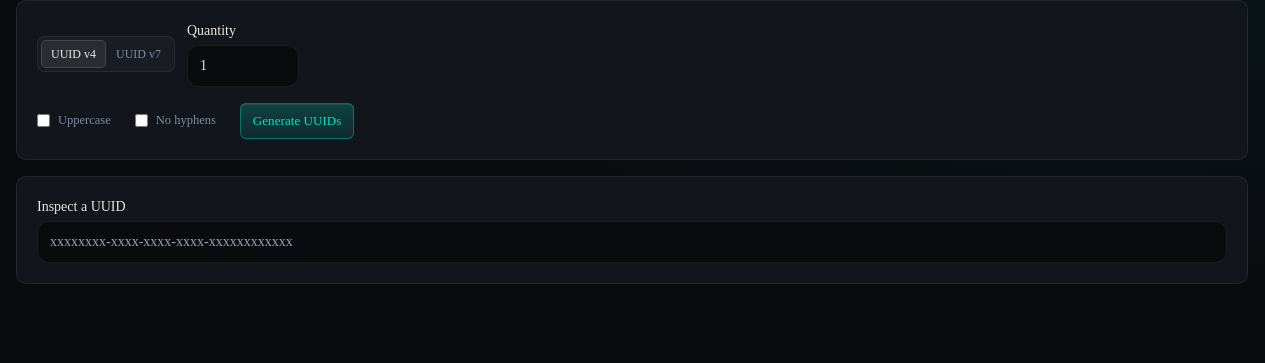
Scenario: UuidGeneratorClient › rejects quantities outside 1 to 100
Replace the text in the number field labelled "Quantity" with "101" at (243, 66), box [187,45,299,87]
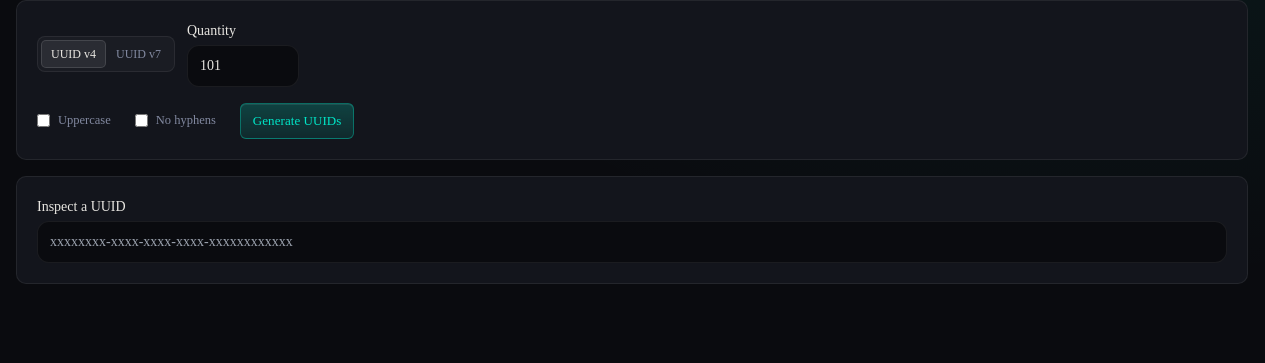
Click the button "Generate UUIDs".
click(297, 121)  # box [240,103,354,138]
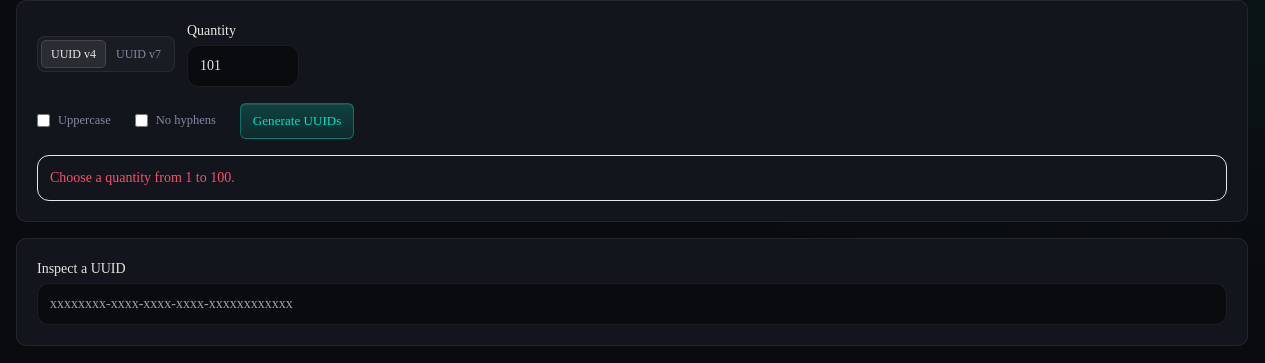
Check: the message reads "Choose a quantity from 1 to 100.", box [50,170,235,184]
